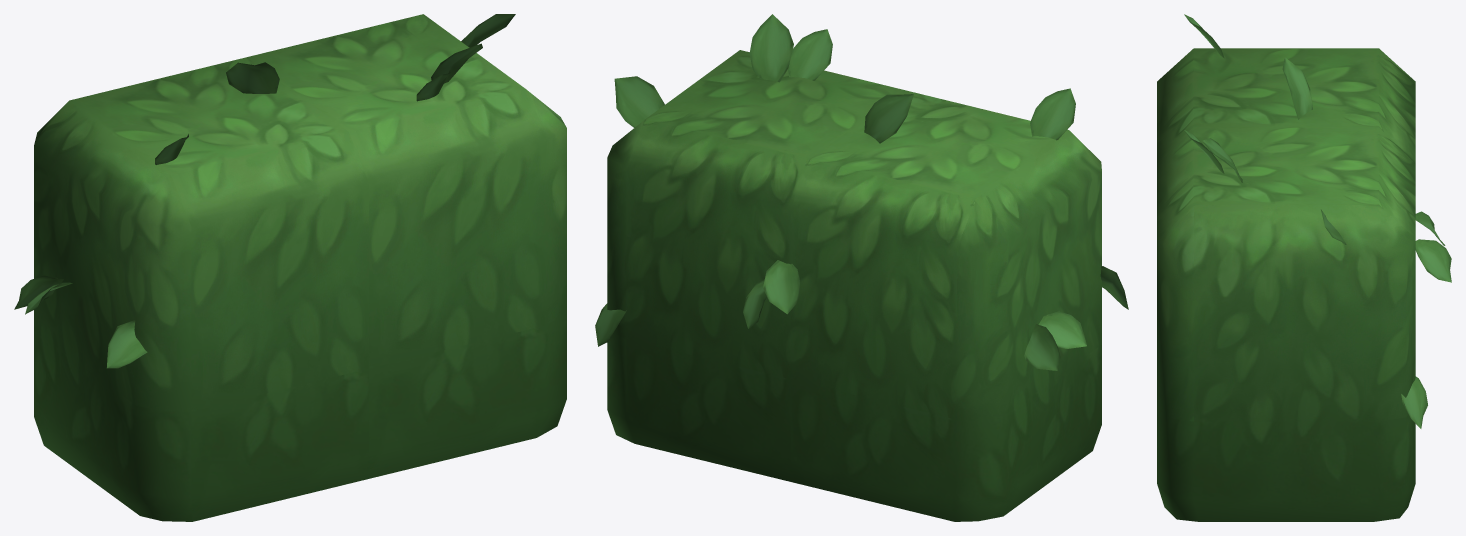
Rendered from bush_2x.fbx.
3 renders of one model, left to right at view 1: azimuth 30°, elevation 25°; view 2: azimuth 150°, elevation 25°; view 3: azimuth 270°, elevation 25°, orthographic. The views are drawn at different scales.
Visible parts, largest first — view 1: Bush_2x; view 2: Bush_2x; view 3: Bush_2x.
Boxes of the visible parts, x1,y1,x2,y2 form: Bush_2x: (14, 14, 566, 521); Bush_2x: (595, 14, 1128, 521); Bush_2x: (1157, 14, 1451, 521).
Size of what is drawn, in the model's own units: 64.33 by 47.68 by 36.25.
